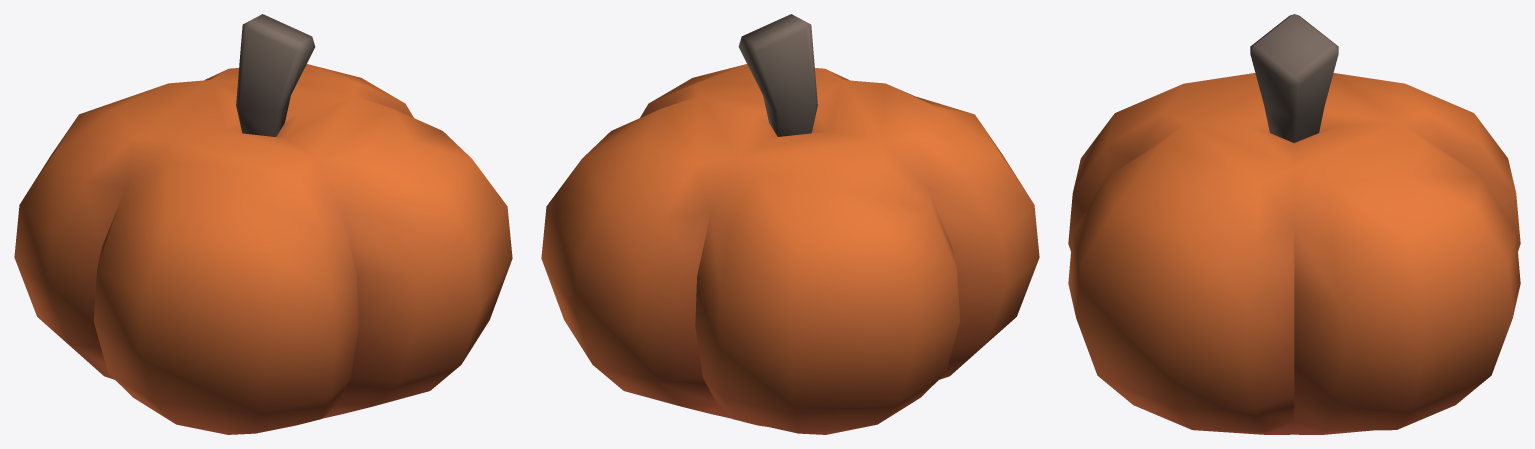
File: hw-pumpkin_orange_small.glb
The picture shows the model from 3 angles, left to right: view 1: azimuth 30°, elevation 25°; view 2: azimuth 150°, elevation 25°; view 3: azimuth 270°, elevation 25°; orthographic projection.
Visible parts, largest first — view 1: pumpkin_orange_small; view 2: pumpkin_orange_small; view 3: pumpkin_orange_small.
Part boxes in pixels (box(x1,y1,x2,y2)): pumpkin_orange_small: box(14, 14, 512, 434); pumpkin_orange_small: box(541, 14, 1039, 434); pumpkin_orange_small: box(1068, 14, 1520, 434).
Bounding box in the file's own units: 0.6 × 0.55 × 0.6.
1 material, 1 textured.
